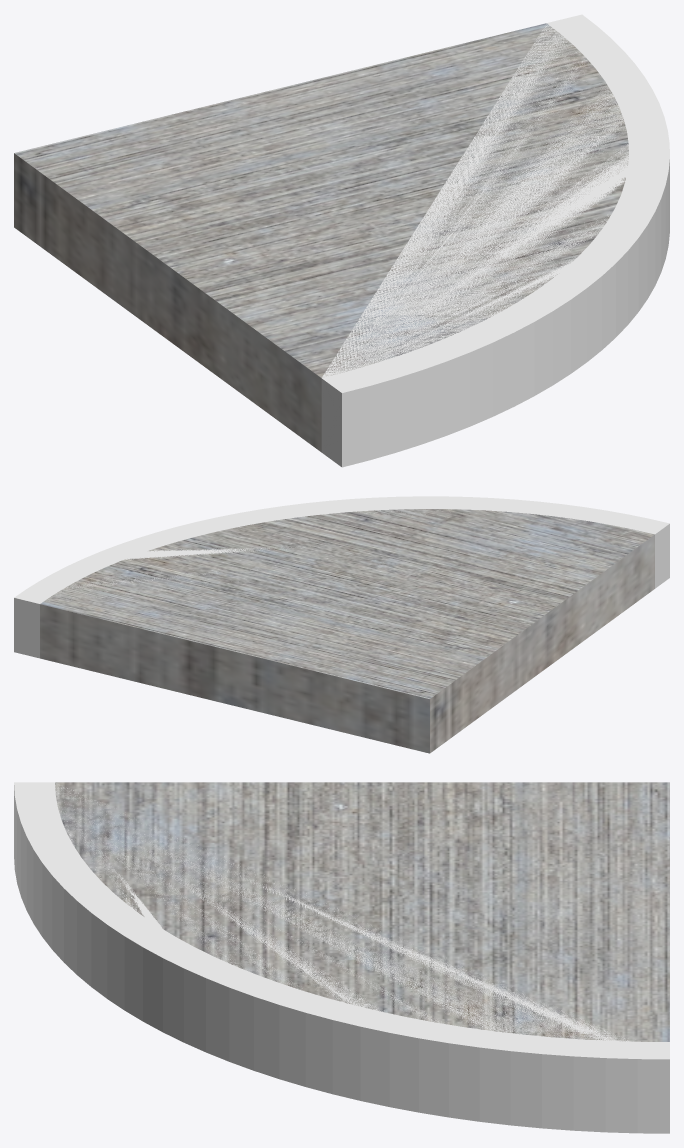
Rendered from esquina.fbx.
3 views of the same model, one above another, from view 1: azimuth 30°, elevation 25°; view 2: azimuth 150°, elevation 25°; view 3: azimuth 270°, elevation 25° (orthographic). The views are drawn at different scales.
Parts seen in each view (by area): view 1: piso, blanco; view 2: piso, blanco; view 3: piso, blanco.
Boxes of the visible parts, left/top/right/bottom form: piso: left=14, top=23, right=628, bottom=452; blanco: left=321, top=14, right=669, bottom=467; piso: left=40, top=509, right=654, bottom=753; blanco: left=14, top=496, right=669, bottom=658; piso: left=55, top=782, right=669, bottom=1041; blanco: left=14, top=782, right=669, bottom=1133.
Size of the model in its own units: 160 by 20 by 160.
